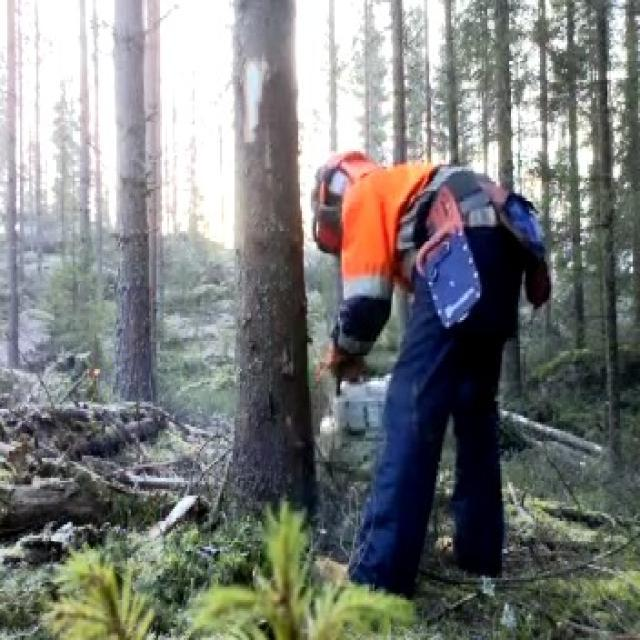Chainsaw: (286, 352, 402, 444)
